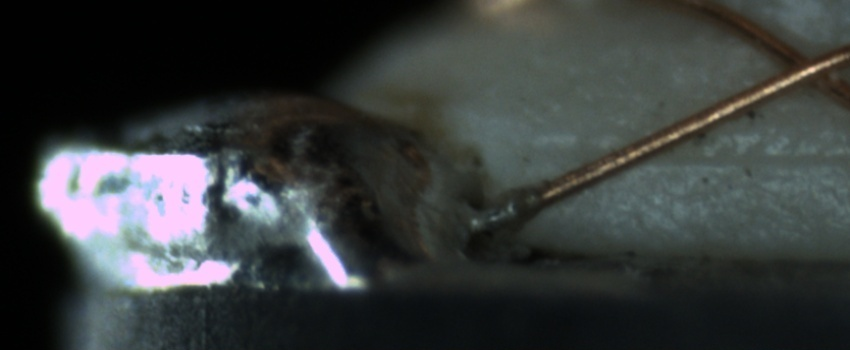CL: (751, 26, 845, 101)
DL: (547, 121, 850, 189)
TS: (469, 198, 525, 234)
